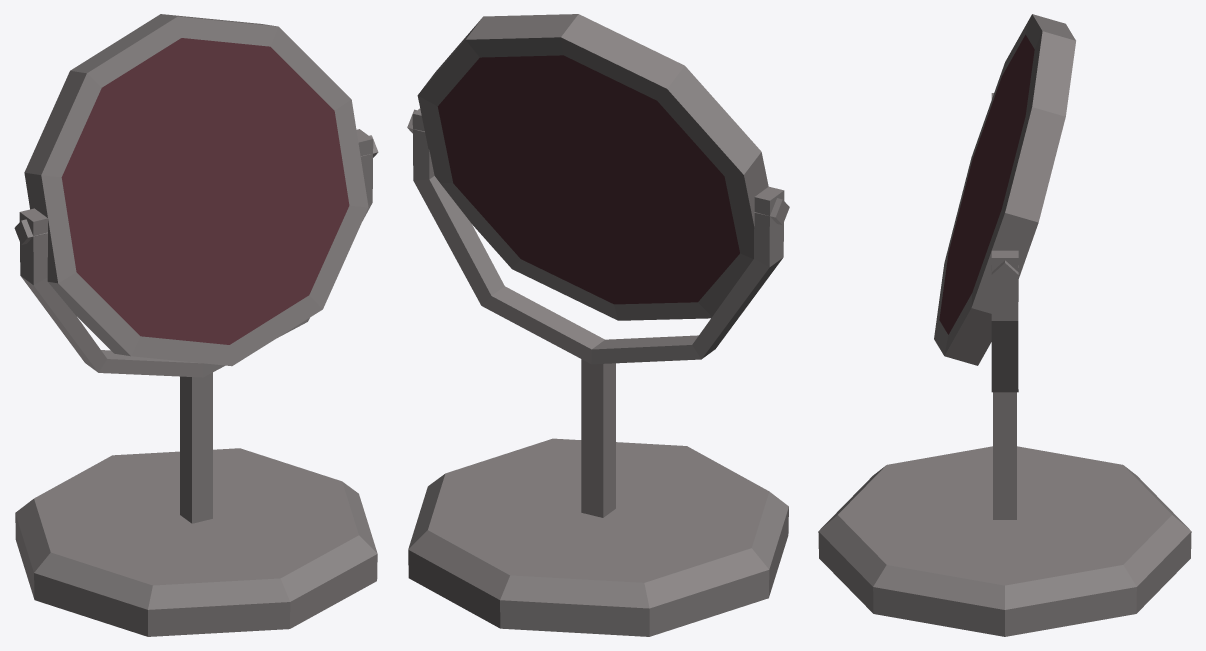
Rendered from mirror-table-small.fbx.
3 renders of one model, left to right at view 1: azimuth 30°, elevation 25°; view 2: azimuth 150°, elevation 25°; view 3: azimuth 270°, elevation 25°, orthographic. The views are drawn at different scales.
Parts seen in each view (by area): view 1: mirror-table-small; view 2: mirror-table-small; view 3: mirror-table-small.
Part boxes in pixels (x1,y1,x2,y2): mirror-table-small: (14,14,378,636); mirror-table-small: (407,14,789,636); mirror-table-small: (818,14,1191,636).
Size of the model in its own units: 0.2293 by 0.3313 by 0.2125.
